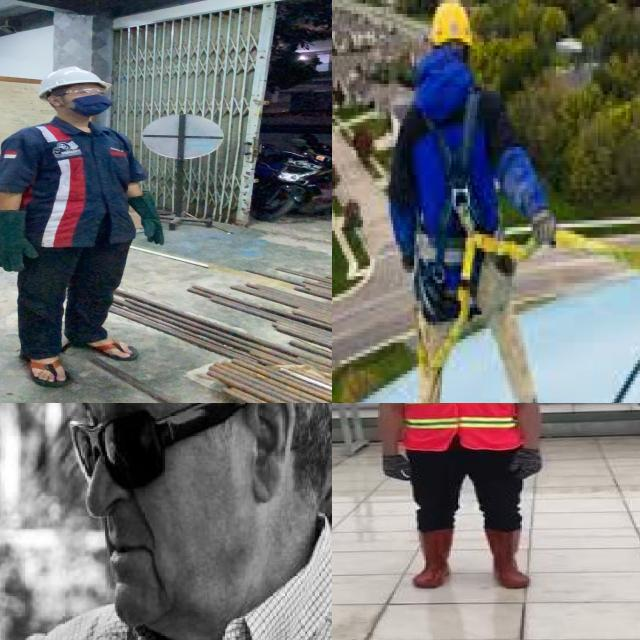Harness: (406, 78, 551, 377)
No_Ear-Protection: (239, 403, 300, 502)
boots: (483, 527, 533, 591), (406, 527, 454, 589)
face_mask: (66, 86, 116, 114)
face_nomask: (50, 408, 192, 585)
glasses: (74, 403, 265, 506), (55, 87, 112, 98)
hand_glove: (0, 207, 44, 272), (129, 196, 174, 245), (510, 447, 545, 480), (379, 452, 414, 481)
head_helmet: (35, 65, 113, 92)
person: (0, 65, 161, 391), (372, 403, 555, 595)
vest: (394, 403, 522, 451)
